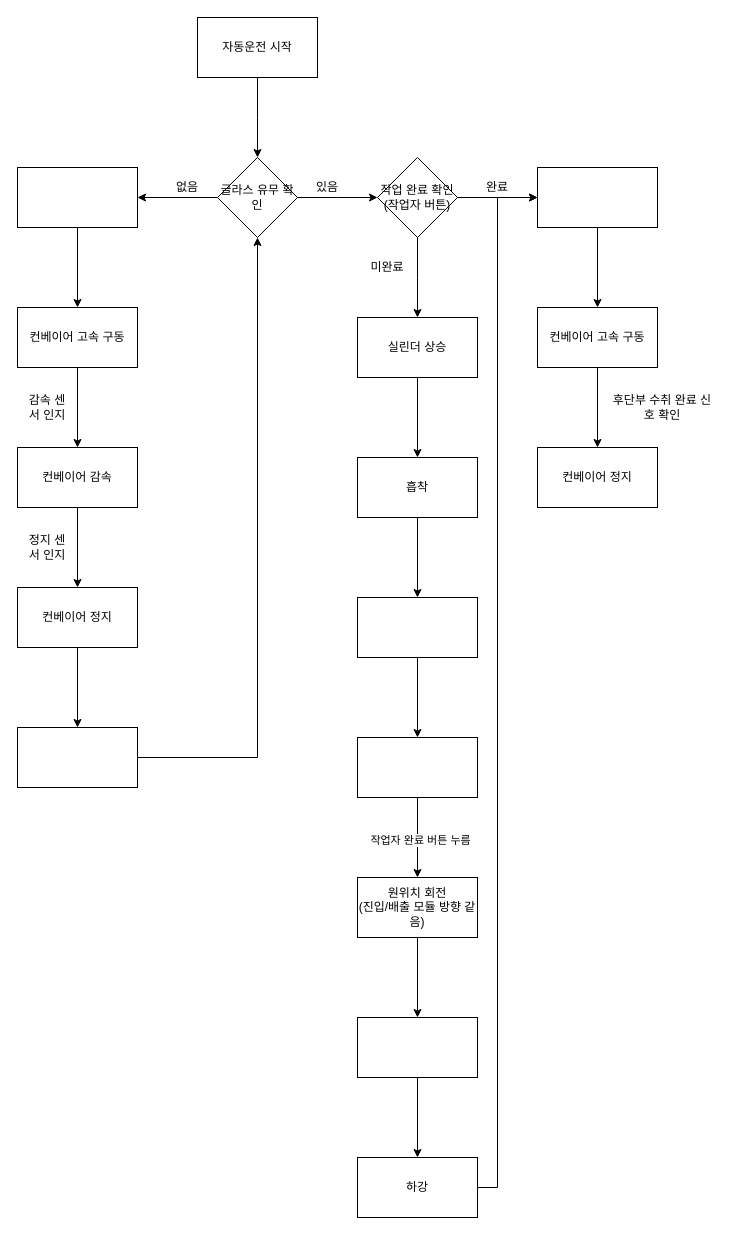
This 735x1235 diagram has some shape labels left out. The shapes that lost their labels are listed below. From the top down, each one's box as (x1, y1, x2, y2) in pixels, then its label:
(16, 166, 138, 228): 수취 동작 시작
(536, 166, 658, 228): 배출 시작
(356, 596, 478, 658): 90도 회전 (인버터)
(16, 726, 138, 788): 센터링
(356, 736, 478, 798): 작업 대기
(356, 1016, 478, 1078): 탈착
